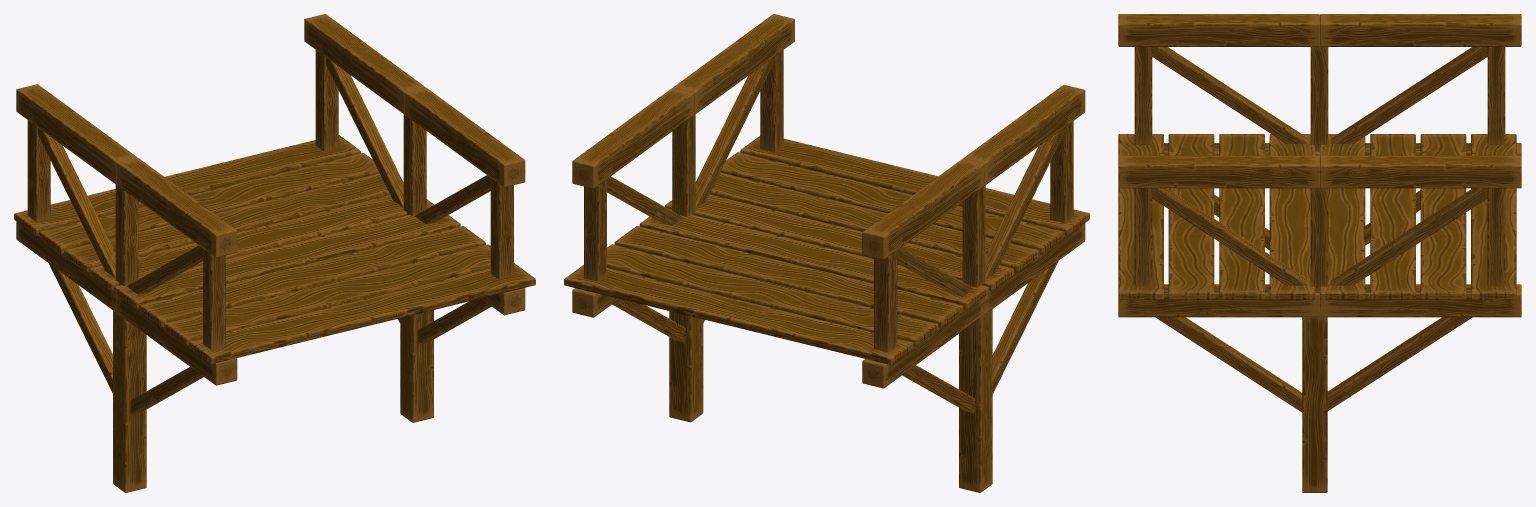
File: Puente_Modul_01.fbx
The picture shows the model from 3 angles, left to right: view 1: azimuth 30°, elevation 25°; view 2: azimuth 150°, elevation 25°; view 3: azimuth 270°, elevation 25°; orthographic projection.
Visible parts, largest first — view 1: P_M_madera_01_LOD0; view 2: P_M_madera_01_LOD0; view 3: P_M_madera_01_LOD0.
Boxes of the visible parts, x1,y1,x2,y2 form: P_M_madera_01_LOD0: (14,14,535,492); P_M_madera_01_LOD0: (564,14,1089,492); P_M_madera_01_LOD0: (1118,14,1521,492).
Size of what is drawn, in the model's own units: 150 by 143 by 160.
